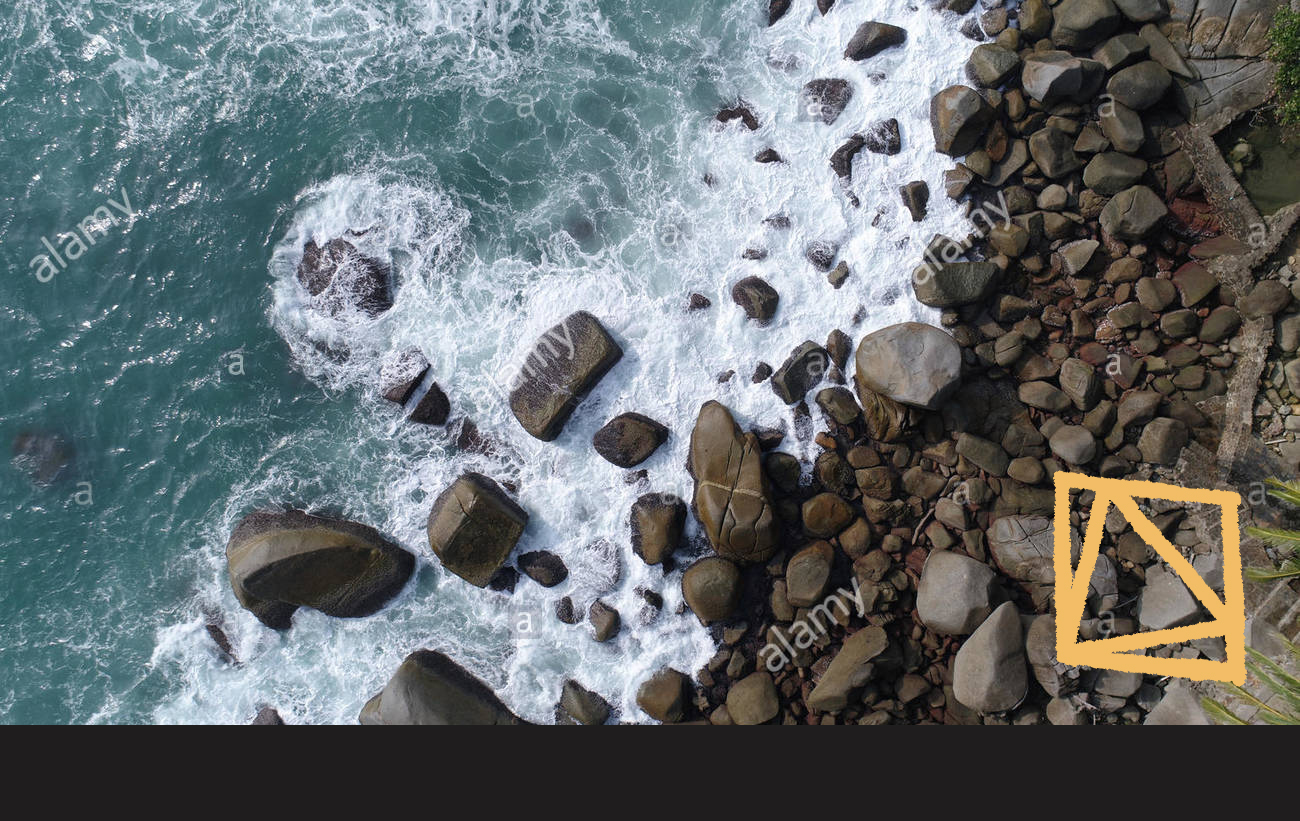marker: (1038, 460, 1261, 698)
